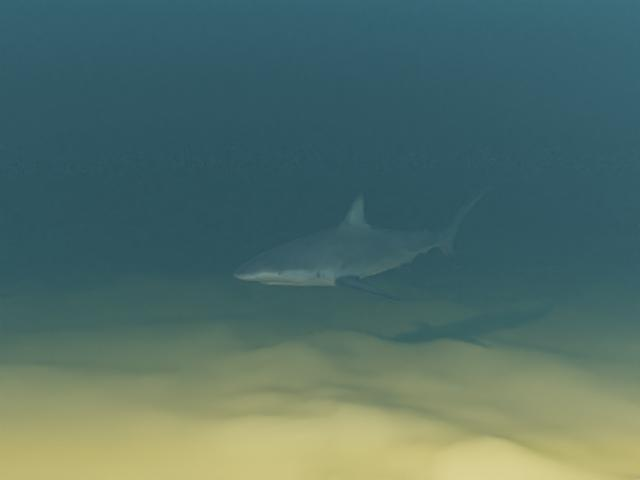Carribean Shark.001: (233, 186, 493, 301)
